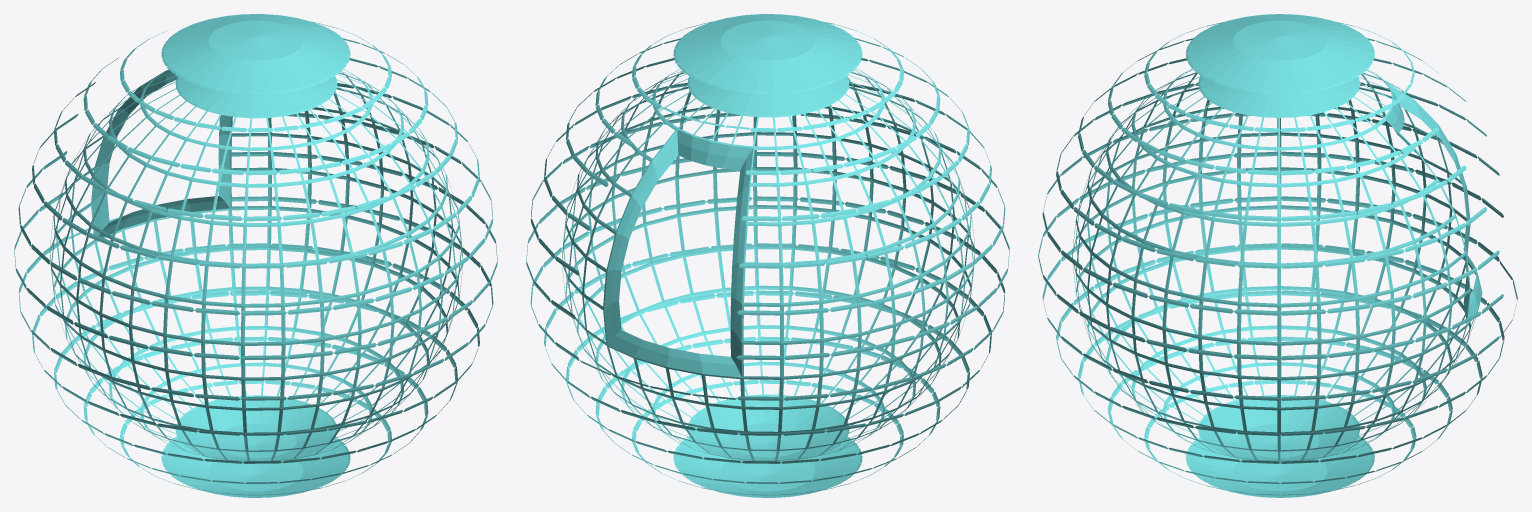
File: Ball.fbx
The picture shows the model from 3 angles, left to right: view 1: azimuth 30°, elevation 25°; view 2: azimuth 150°, elevation 25°; view 3: azimuth 270°, elevation 25°; orthographic projection.
Visible parts, largest first — view 1: Sphere; view 2: Sphere; view 3: Sphere.
Part boxes in pixels (box(x1,y1,x2,y2)): Sphere: box(14, 14, 497, 497); Sphere: box(526, 14, 1009, 497); Sphere: box(1038, 14, 1517, 497).
Size of the model in its own units: 23373 by 23373 by 23149.
